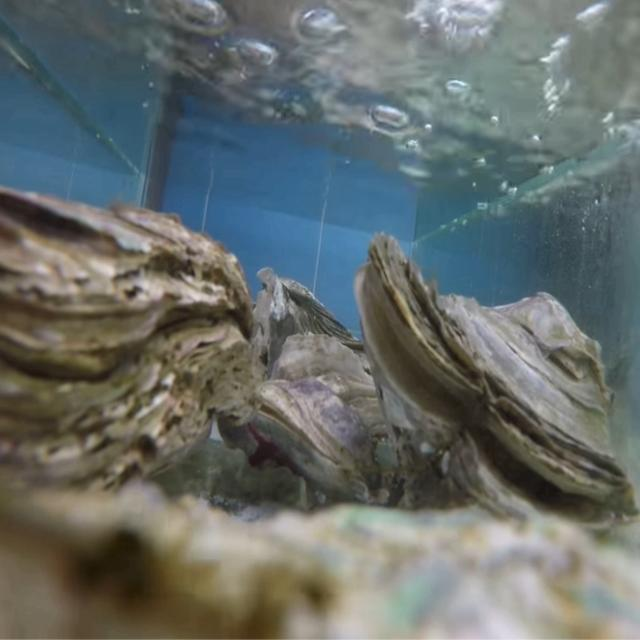Oyster-Closed: (0, 183, 255, 532), (251, 332, 404, 508)
Oyster-Indeterminate: (0, 481, 640, 640), (252, 266, 368, 383)
Oyster-Open: (355, 230, 640, 546)
